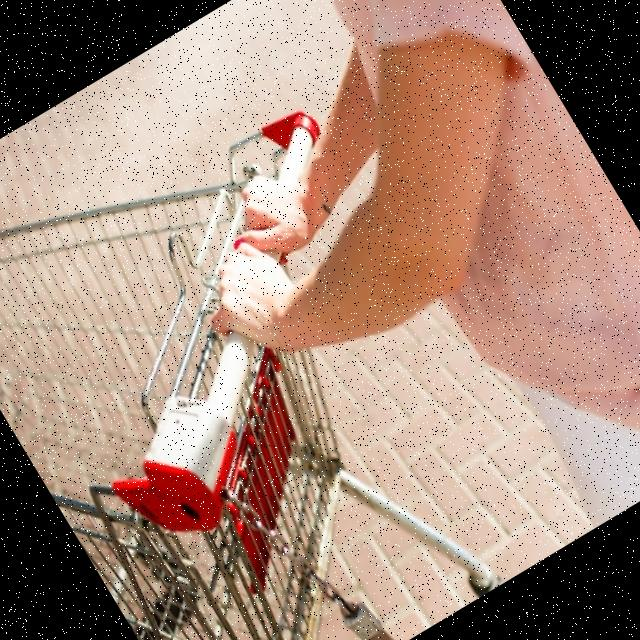Person: (74, 0, 640, 640)
